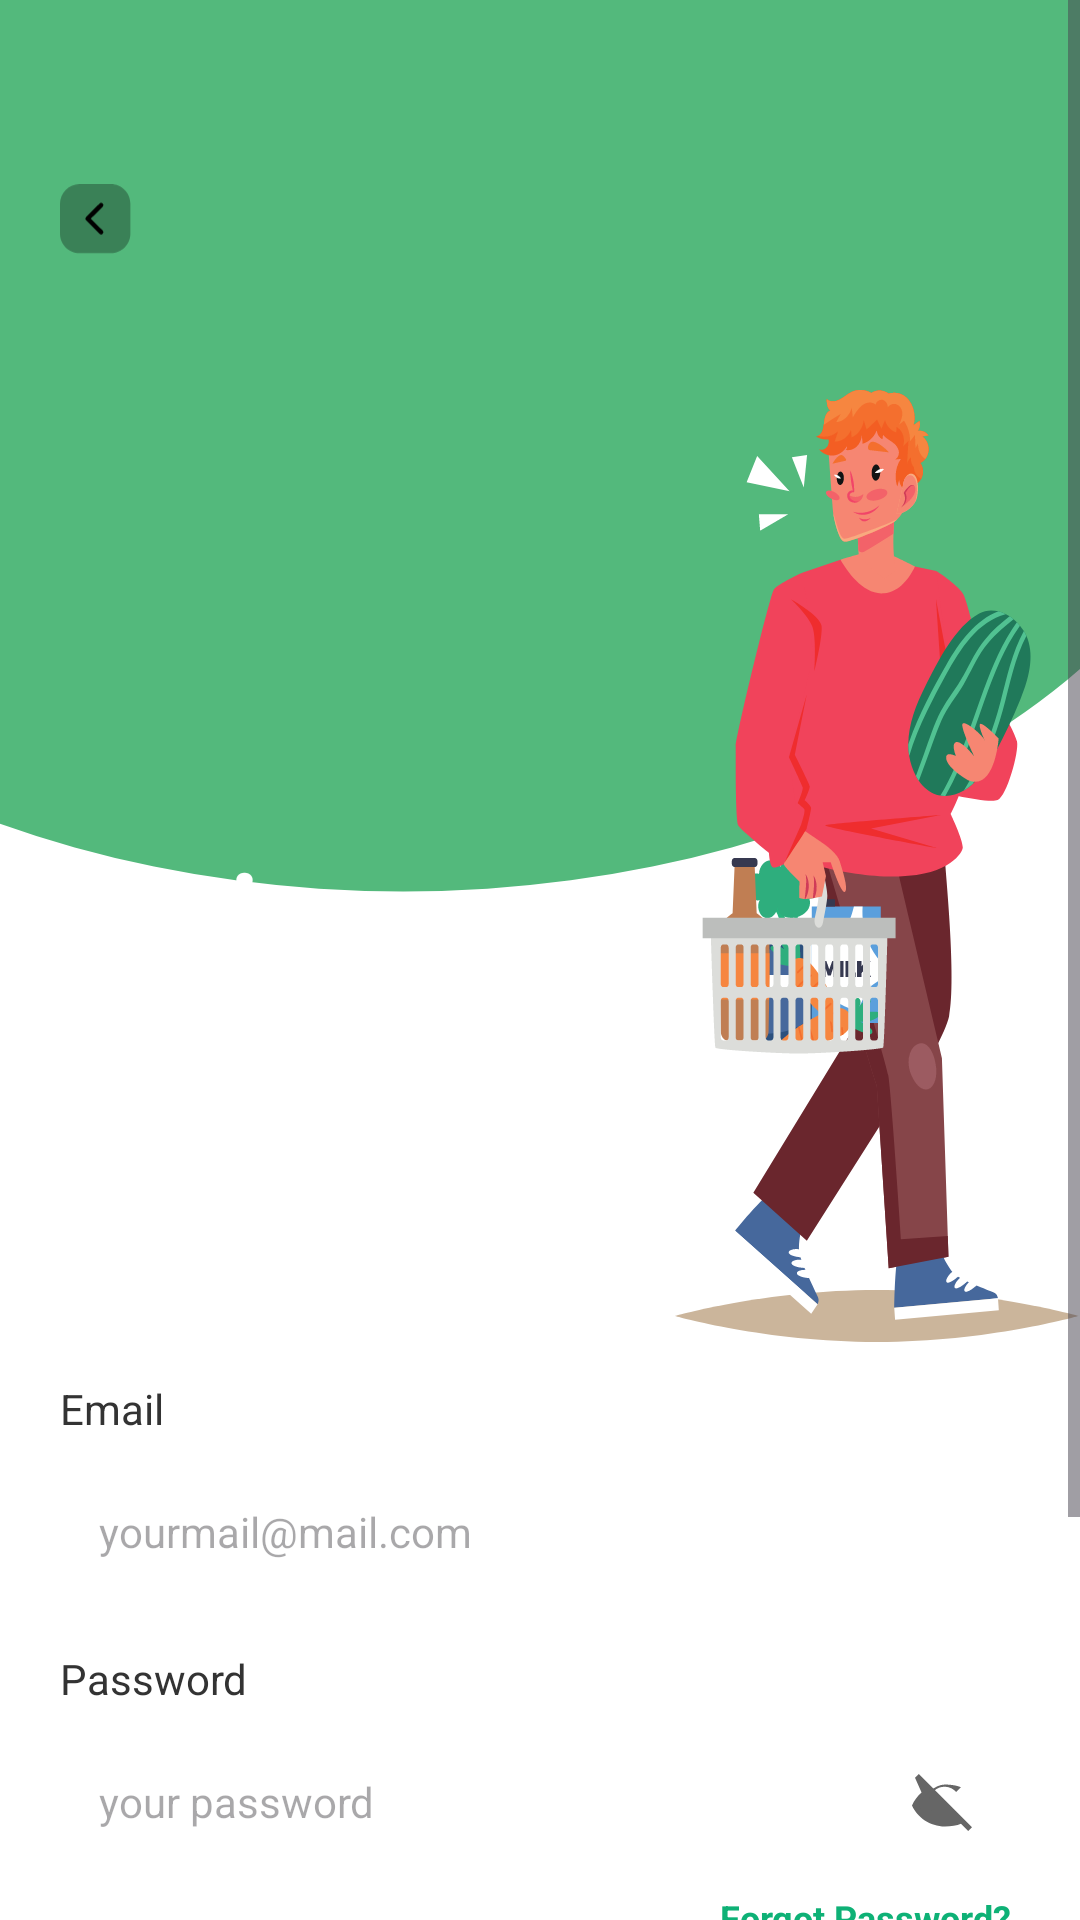

Screen size 1080 x 1920. Icon name, then its center in pixels as (x,y):
back trasparent: (95,218)
eye closed: (942,1802)
